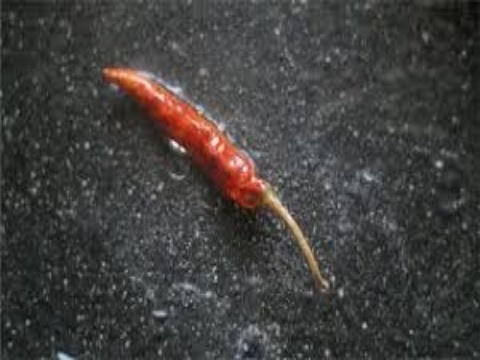Chilli: (90, 58, 343, 304)
